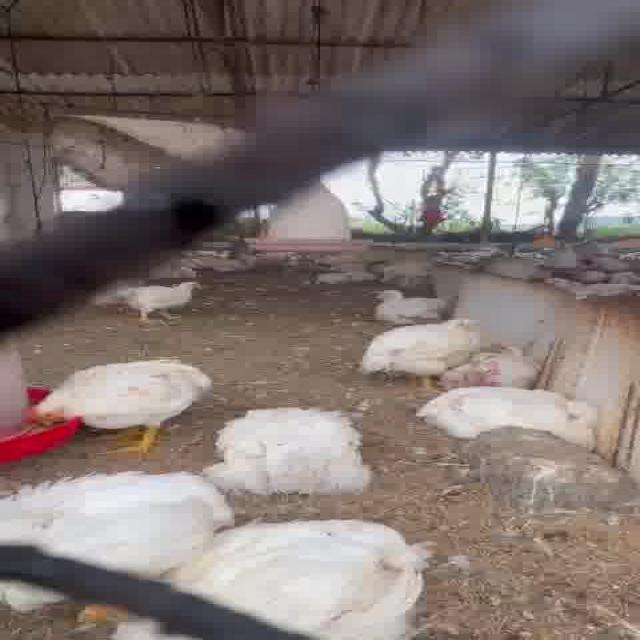AbNormal: (125, 522, 437, 640), (0, 473, 225, 593), (212, 408, 370, 494), (418, 382, 588, 452), (423, 340, 554, 392), (372, 286, 453, 324), (308, 263, 389, 289)
Normal: (36, 360, 212, 456), (340, 318, 480, 380), (99, 274, 203, 326)
